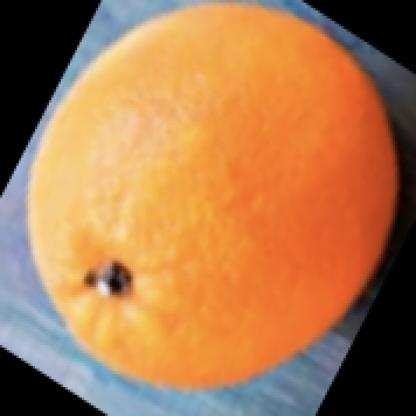fresh: (32, 8, 393, 390)
